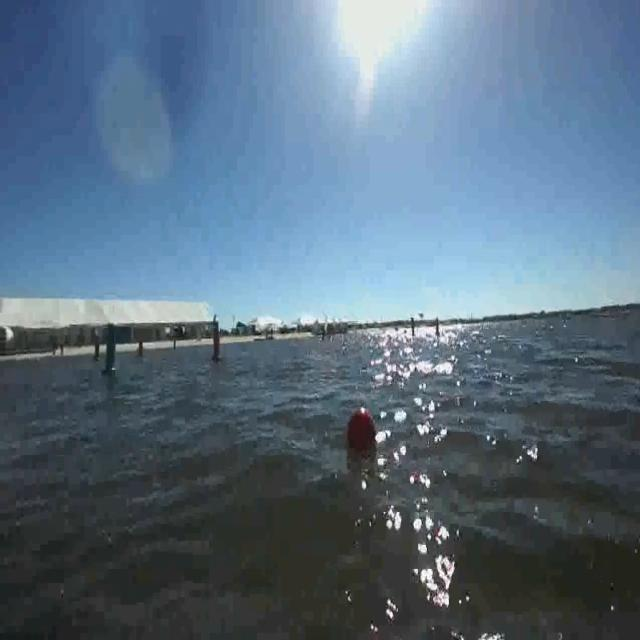green-column-buoy: (101, 320, 121, 376)
red-buoy: (347, 408, 378, 452)
red-column-buoy: (210, 322, 224, 364), (138, 338, 146, 360)
